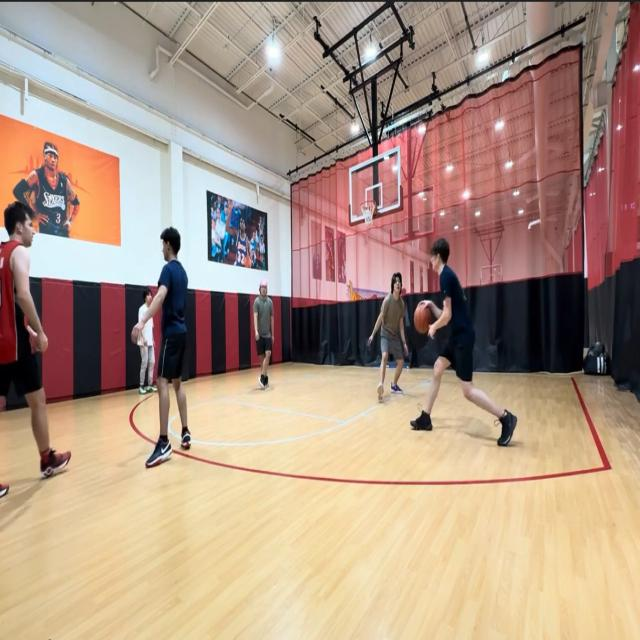Basketball: (414, 303, 431, 335)
Basketball Rim: (360, 200, 376, 227)
Player: (411, 236, 518, 452), (0, 200, 72, 480), (129, 225, 193, 467), (368, 272, 409, 403), (253, 281, 275, 390), (138, 288, 157, 397)
